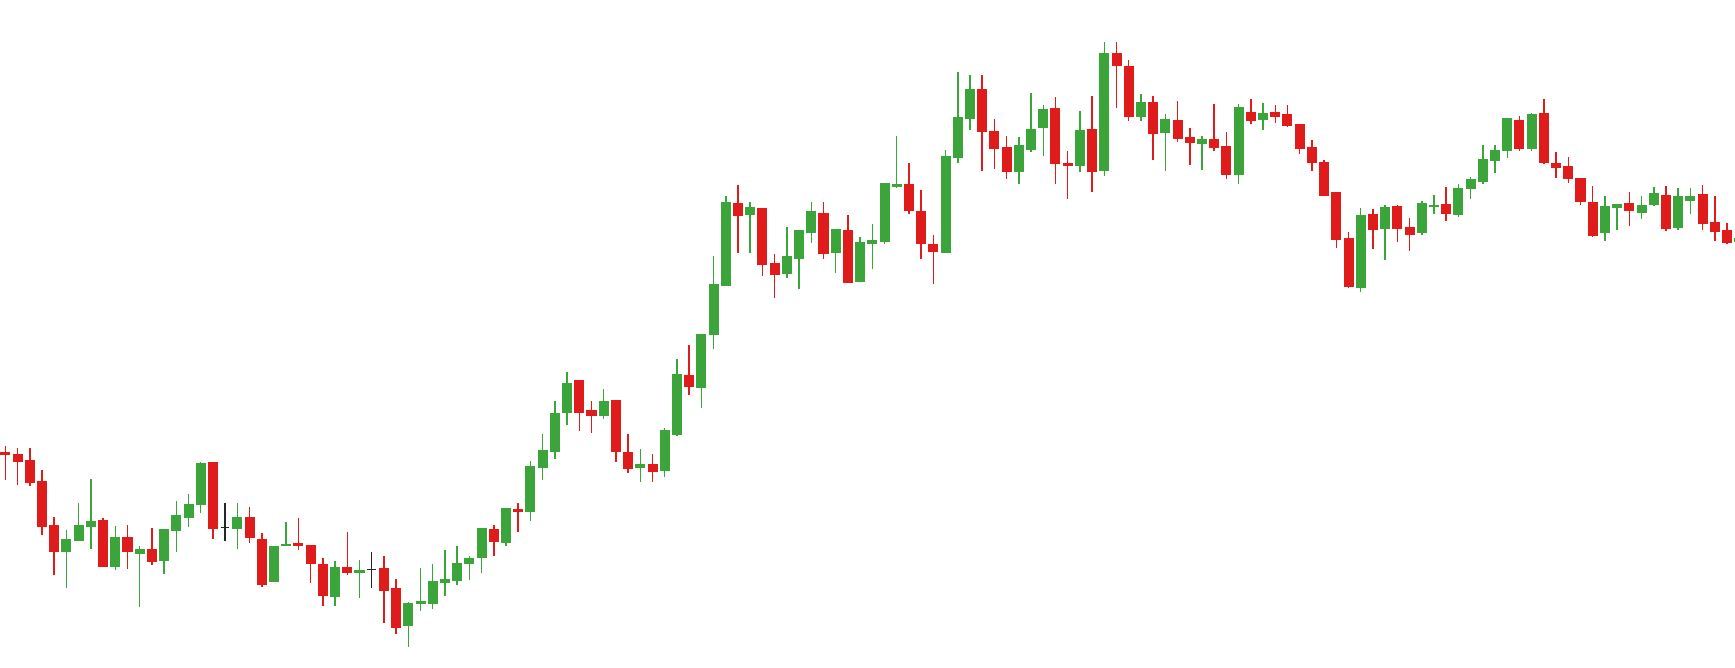buy: (315, 552, 426, 653), (866, 184, 953, 285)
sell: (950, 39, 1135, 145)
